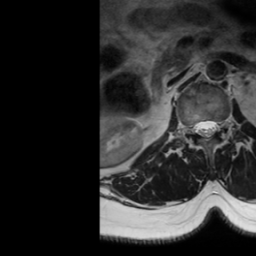CCS_normal: (202, 111, 210, 145)
LFS_normal: (218, 113, 226, 137)
LLS_normal: (210, 113, 218, 140)
RFS_normal: (185, 115, 193, 140)
RLS_normal: (193, 112, 202, 142)
